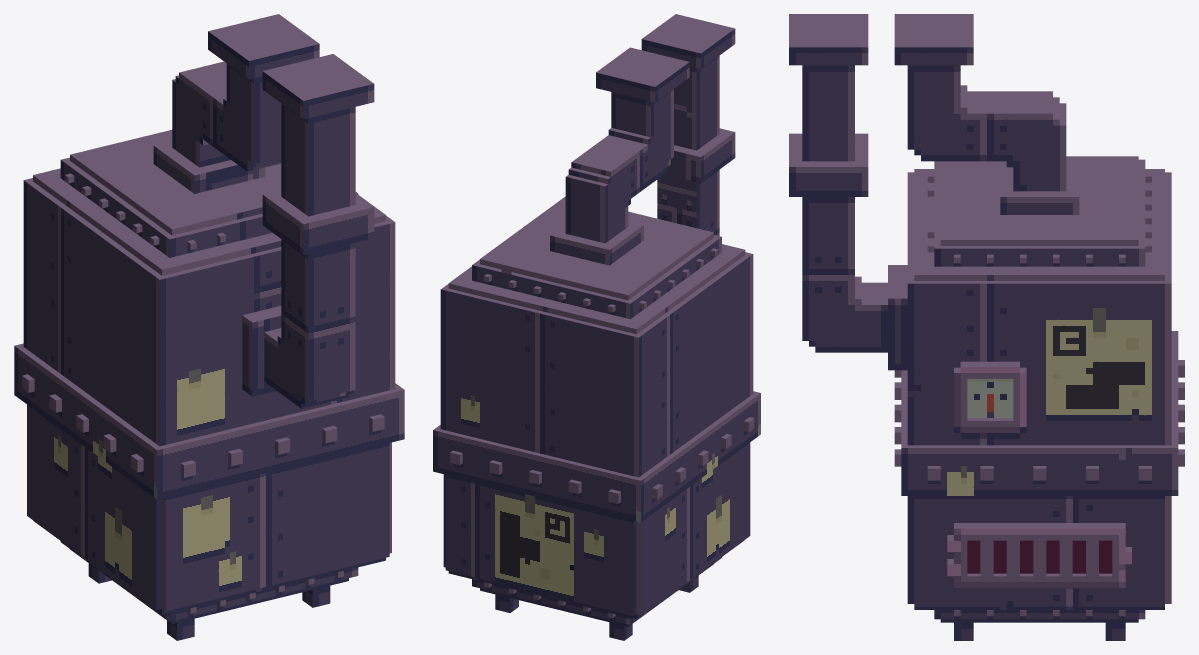
Rendered from int_boilerao.fezao.glb.
3 renders of one model, left to right at view 1: azimuth 30°, elevation 25°; view 2: azimuth 150°, elevation 25°; view 3: azimuth 270°, elevation 25°, orthographic. The views are drawn at different scales.
Visible parts, largest first — view 1: INT_BOILERAO; view 2: INT_BOILERAO; view 3: INT_BOILERAO.
Part boxes in pixels (<box>): INT_BOILERAO: <box>14,14,404,640</box>; INT_BOILERAO: <box>433,14,760,640</box>; INT_BOILERAO: <box>789,14,1184,640</box>.
Size of the model in its own units: 2.75 by 6 by 3.75.
Materials: 1 (1 with a texture image).
